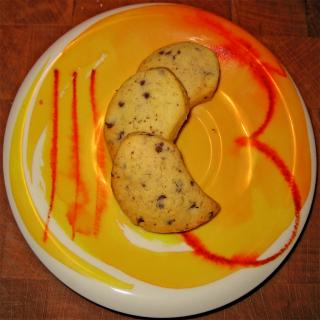Cookie: (110, 130, 220, 233), (101, 66, 190, 164), (135, 40, 220, 112)
